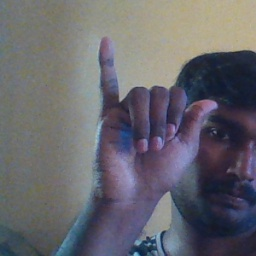J: (89, 34, 219, 208)
